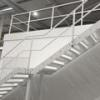stairs: (41, 16, 99, 78), (1, 66, 29, 96)
